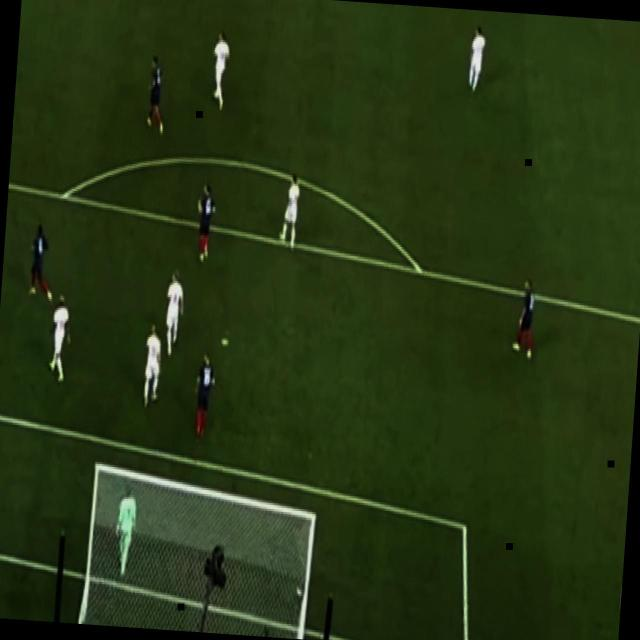player-white: (43, 291, 76, 387), (24, 222, 60, 304), (509, 275, 541, 363), (190, 350, 220, 443), (112, 480, 140, 578), (159, 266, 187, 362), (206, 26, 234, 116), (142, 52, 170, 141), (139, 320, 165, 413), (192, 178, 218, 266), (276, 170, 303, 254), (464, 21, 490, 95)
